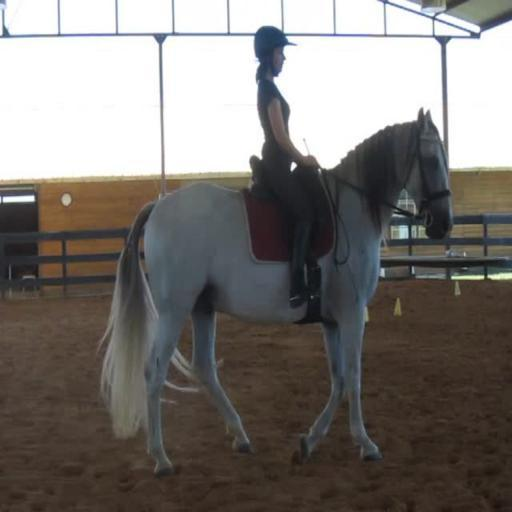horse: (92, 106, 454, 480)
